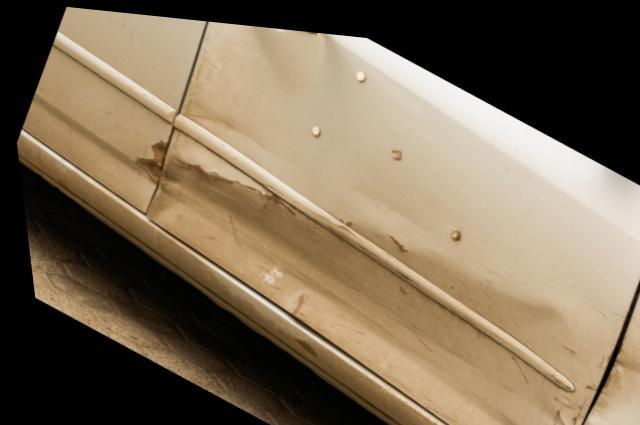crack: (131, 134, 164, 181)
dent: (151, 156, 565, 425), (225, 19, 348, 117), (580, 284, 640, 425)
